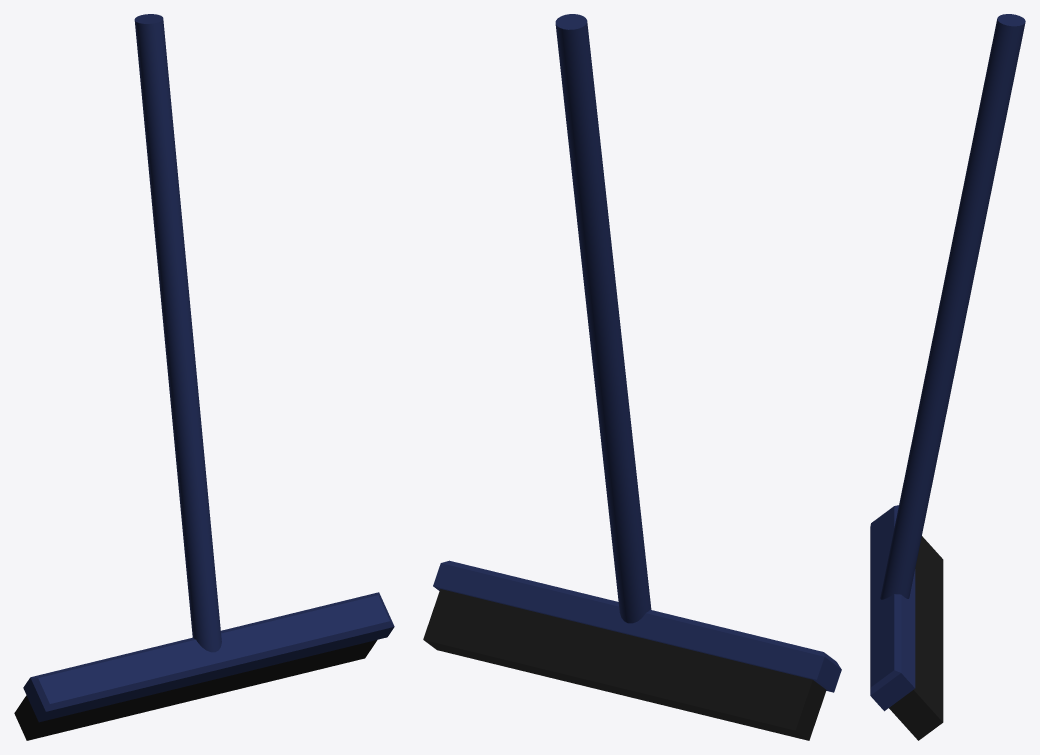
Rendered from Proto_Broom_01.fbx.
3 renders of one model, left to right at view 1: azimuth 30°, elevation 25°; view 2: azimuth 150°, elevation 25°; view 3: azimuth 270°, elevation 25°, orthographic. The views are drawn at different scales.
Visible parts, largest first — view 1: Broom; view 2: Broom; view 3: Broom.
Part boxes in pixels (x1=…): Broom: x1=14, y1=14, x2=394, y2=740; Broom: x1=423, y1=14, x2=841, y2=740; Broom: x1=870, y1=14, x2=1025, y2=740.
Size of the model in its own units: 1.7 by 3.01 by 0.6629.
